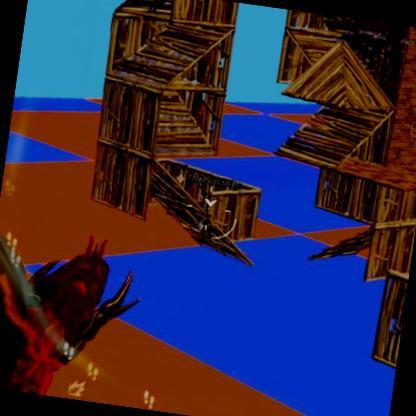person: (198, 209, 214, 242)
